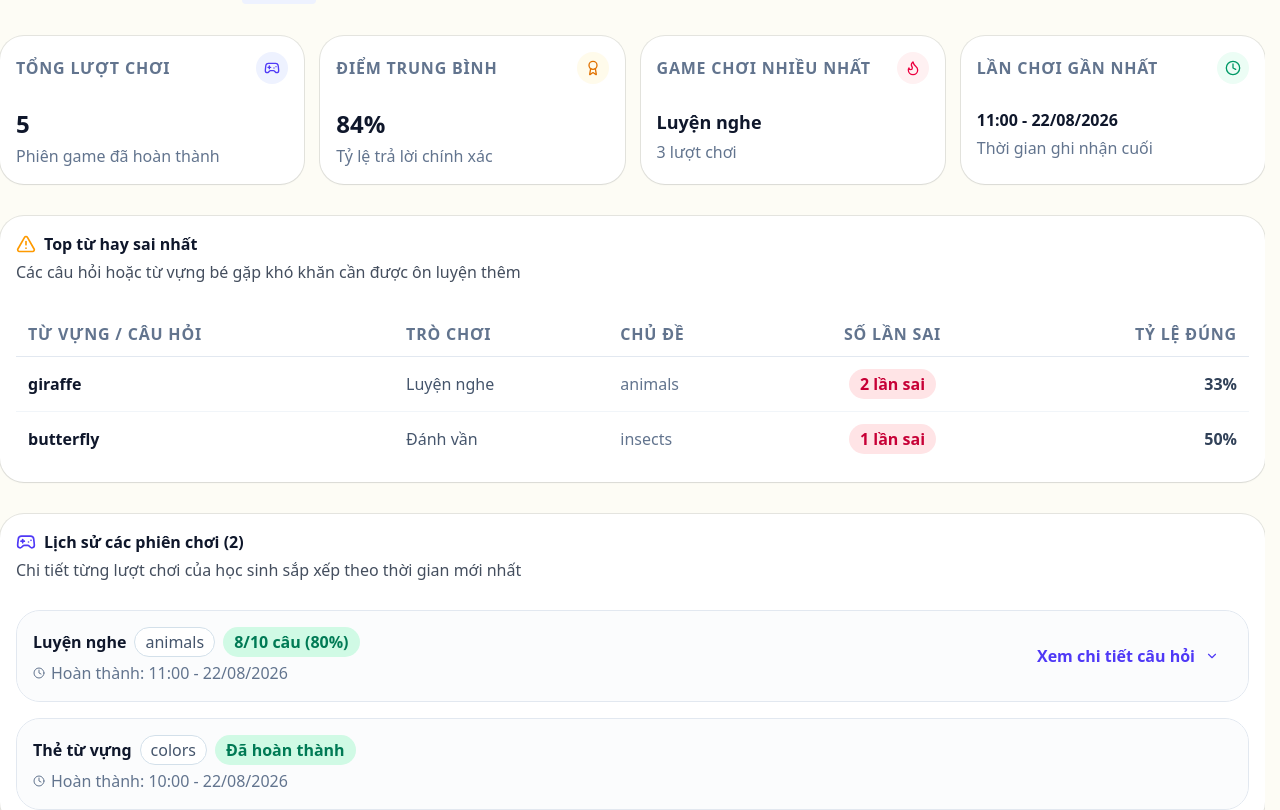
Test: StudentDetail Component › allows expanding a session to inspect question-by-question breakdown
Click the button "Xem chi tiết câu hỏi": (1128,656) [1024,640,1232,672]
(page scrolled)
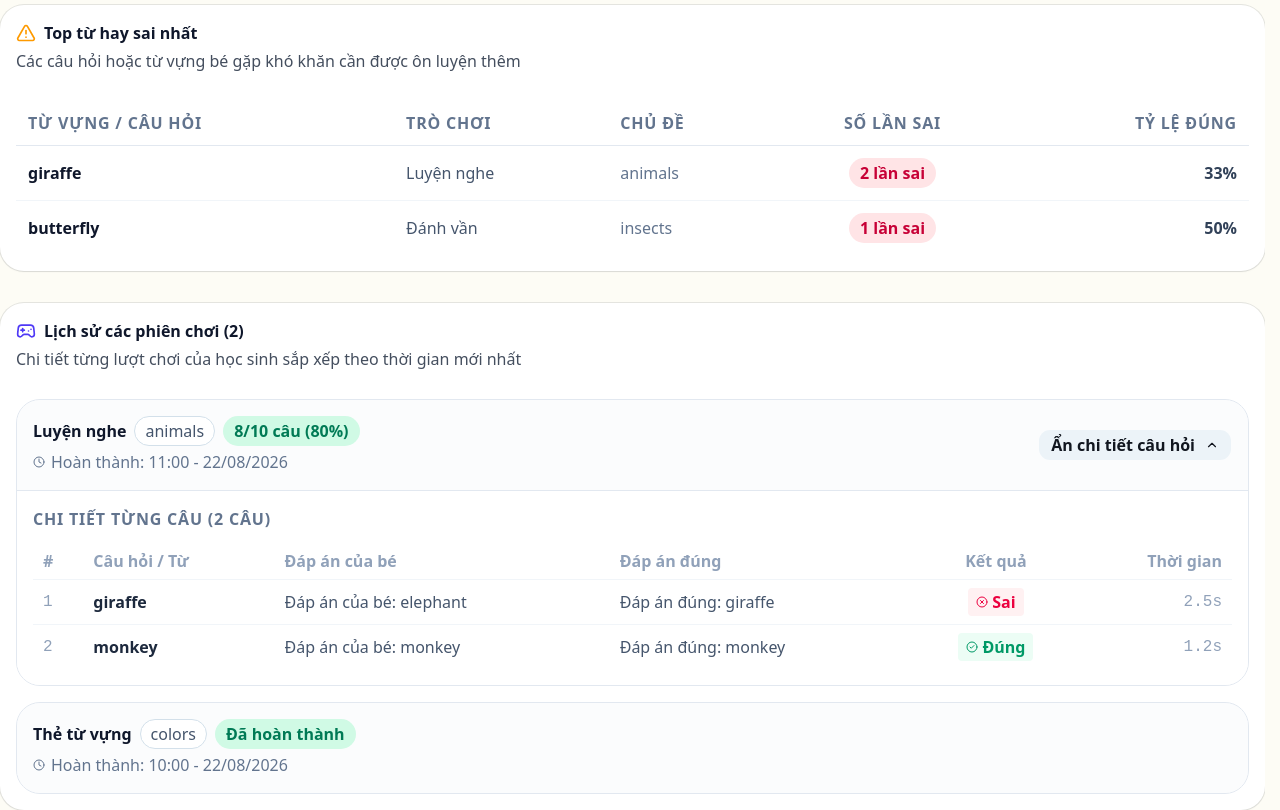
Check: the text "monkey" is shown, box [83,624,274,669]
Check: the text "Đáp án của bé: elephant" is shown, box [284,591,467,613]
Check: the text "Đáp án đúng: giraffe" is shown, box [620,591,775,613]
